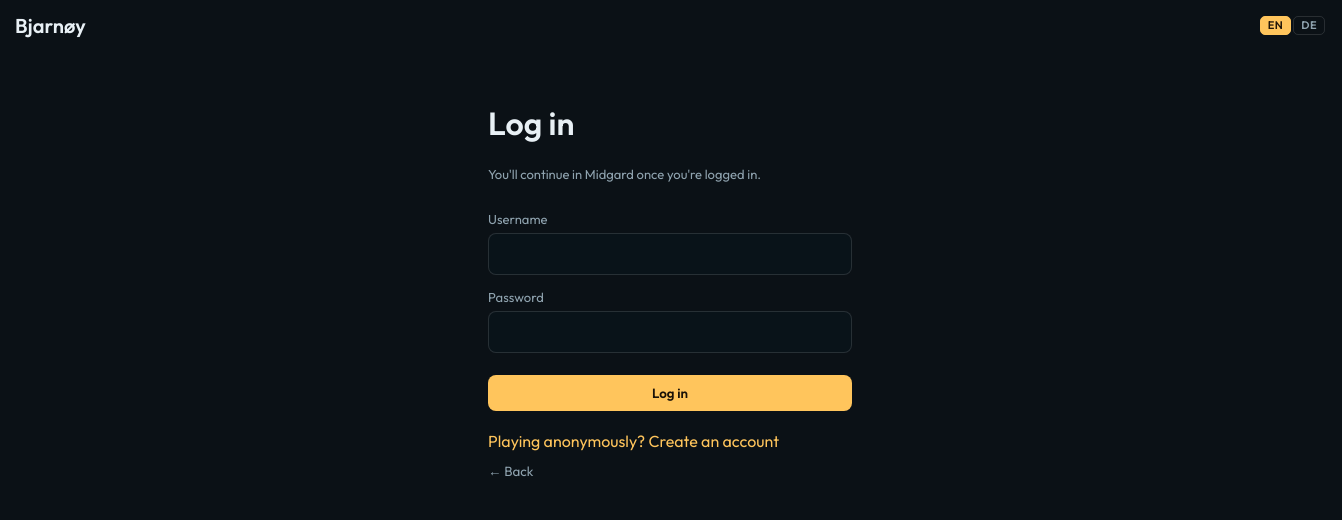
LoginView world linkage › does not join the linked world if login itself fails
Type "ragnar" into the field with id "userName" at (670, 254), box 488,233 -> 852,275
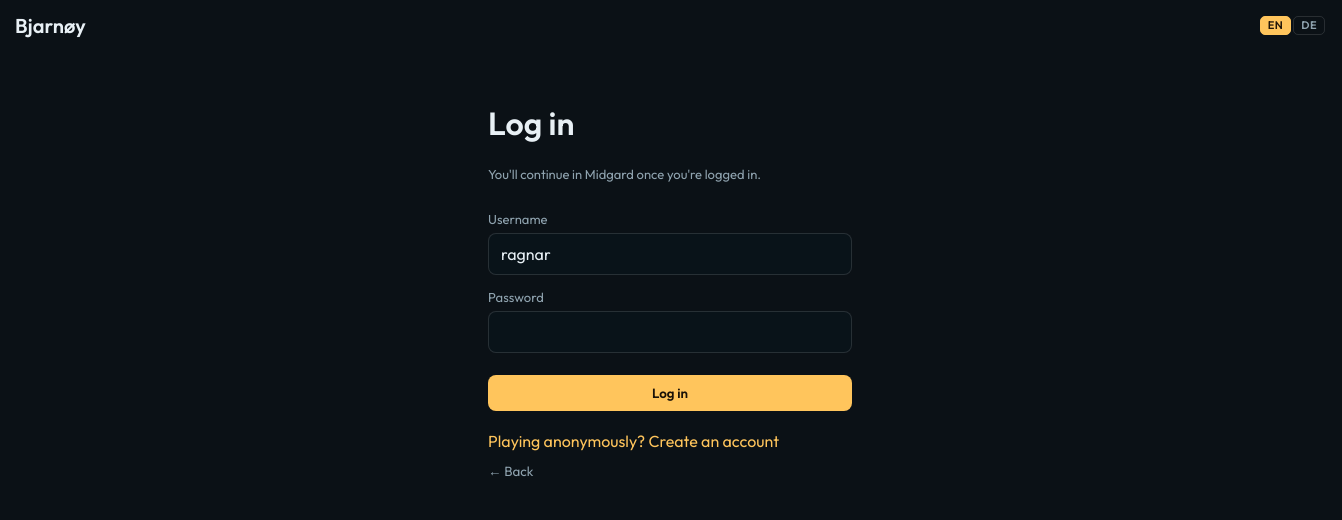
Type "hunter2" into the password field labelled "Password" at (670, 332), box 488,311 -> 852,353
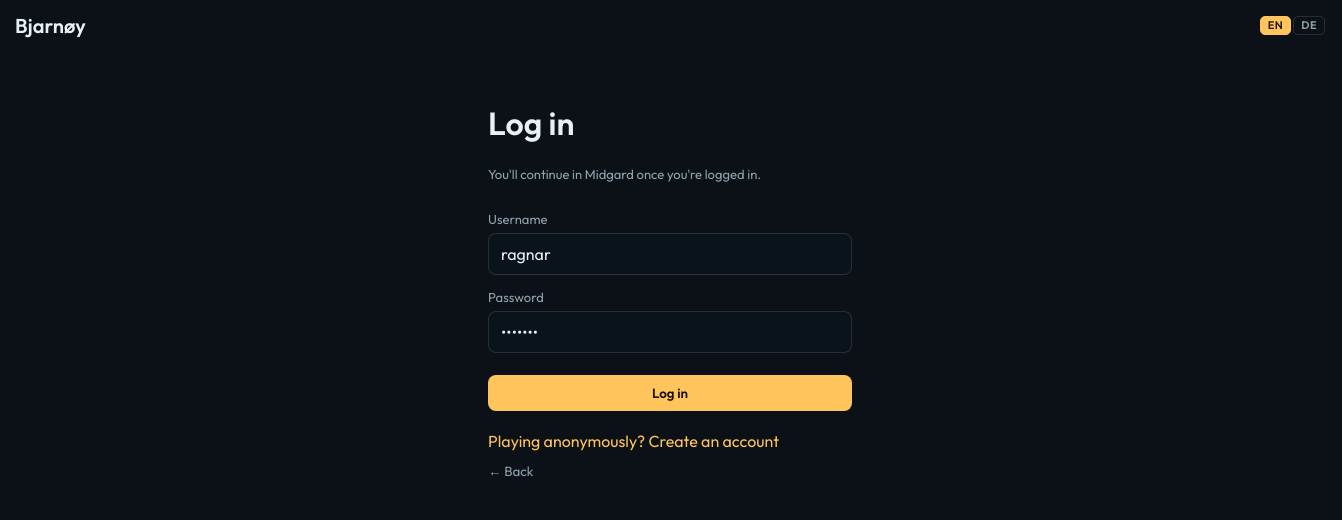
Submit the form, box 488,203 -> 852,411
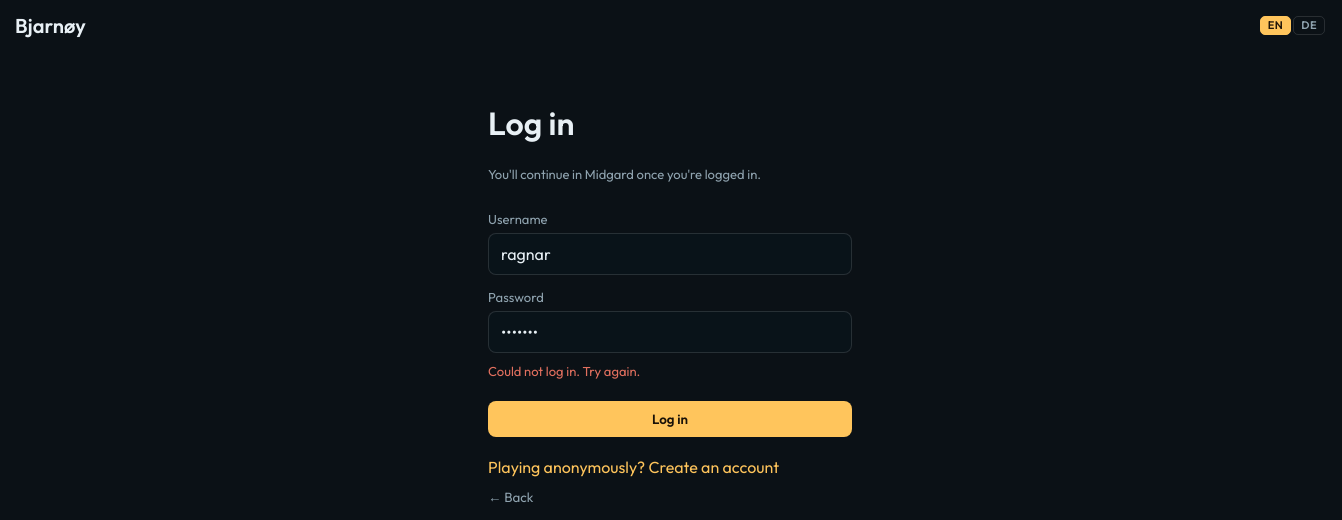
Expected: the text "Could not log in. Try again." is shown, 488,363 -> 640,379
